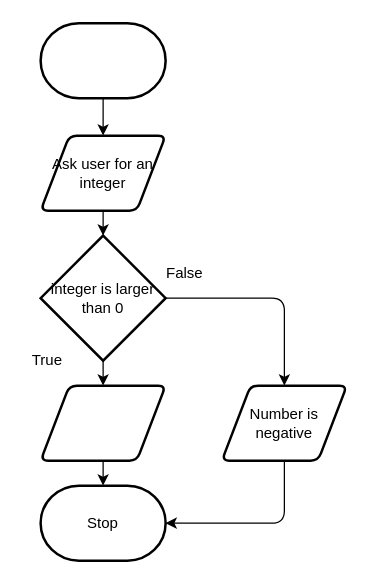
The diagram is 369 pixels wide and 583 high, and some of its shapes have lost their labels. The shapes that lost their labels are listed below. From the top down, each one's centre as x and y in pixels, then its label:
point (102, 60): Start
point (102, 422): Number is positive
